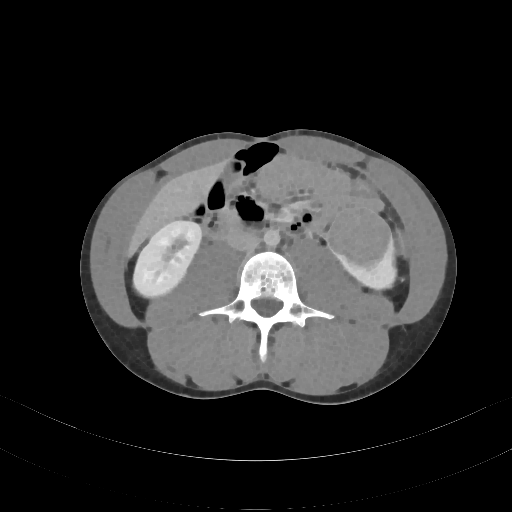Lesion: (326, 206, 391, 266)
